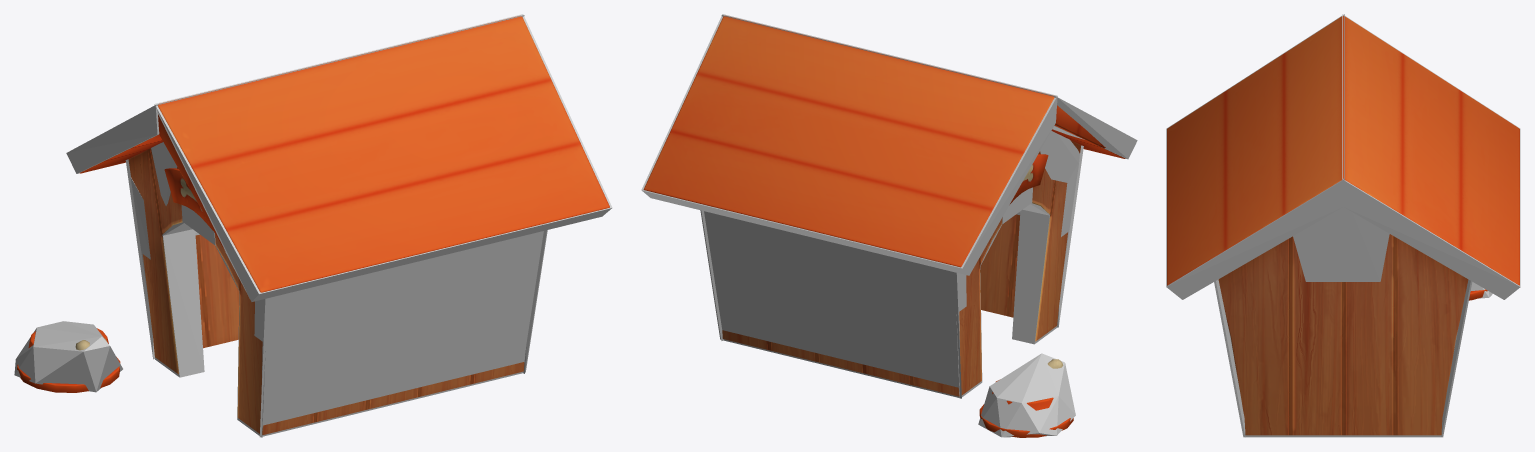
The model's file is SM_DogsHouse01.fbx.
3 renders of one model, left to right at view 1: azimuth 30°, elevation 25°; view 2: azimuth 150°, elevation 25°; view 3: azimuth 270°, elevation 25°, orthographic. The views are drawn at different scales.
Parts seen in each view (by area): view 1: SM_DogsHouse01, SM_DogsHouse01_ConvexHulls; view 2: SM_DogsHouse01, SM_DogsHouse01_ConvexHulls; view 3: SM_DogsHouse01, SM_DogsHouse01_ConvexHulls.
Part boxes in pixels (<box>): SM_DogsHouse01: <box>17,15,609,434</box>; SM_DogsHouse01_ConvexHulls: <box>14,14,612,437</box>; SM_DogsHouse01: <box>643,15,1125,437</box>; SM_DogsHouse01_ConvexHulls: <box>641,14,1137,437</box>; SM_DogsHouse01: <box>1167,16,1519,435</box>; SM_DogsHouse01_ConvexHulls: <box>1166,14,1520,437</box>.
Size of the model in its own units: 151 by 114 by 101.
2 materials, 1 textured.
